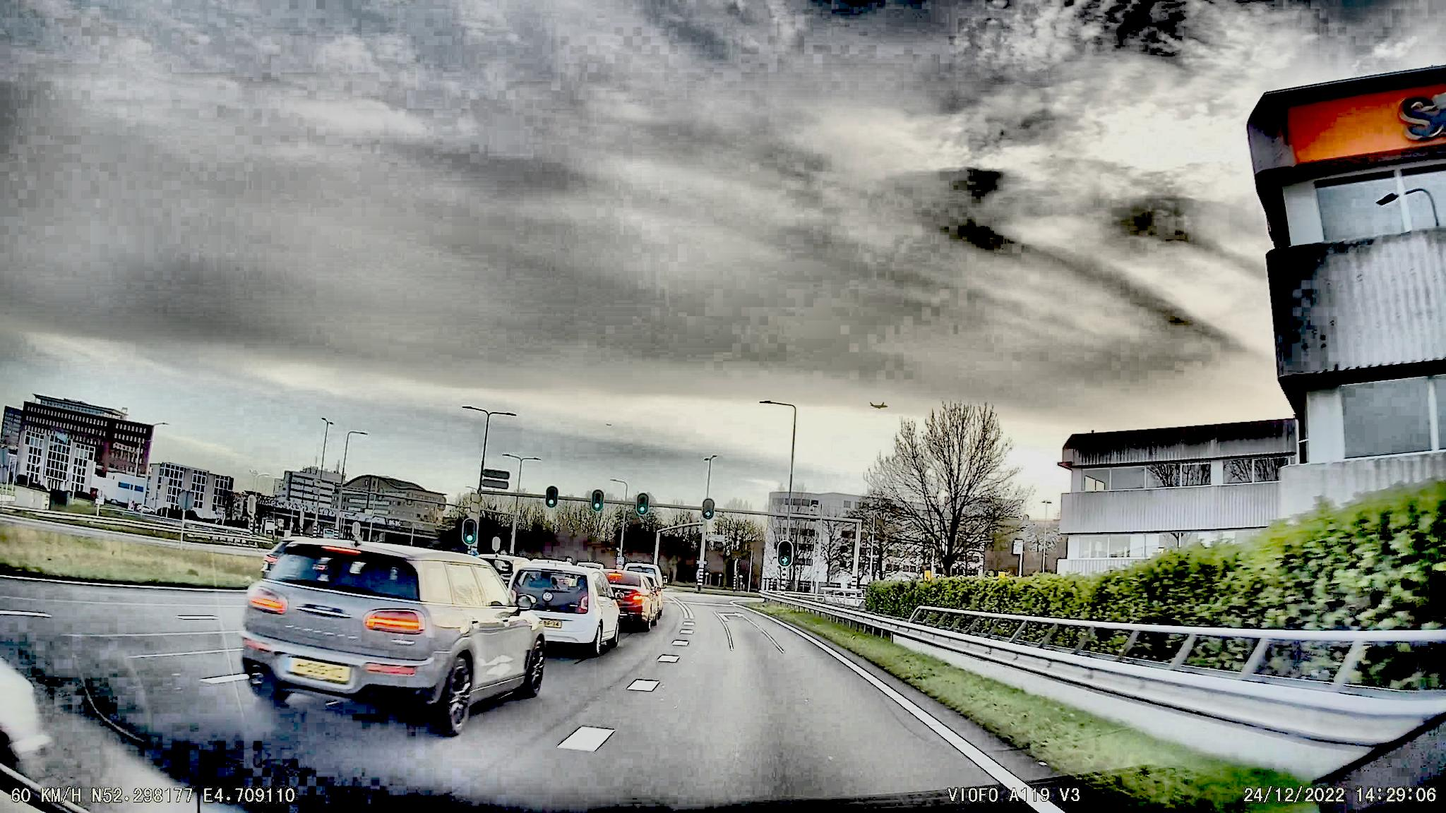Roads: (0, 579, 1123, 813)
